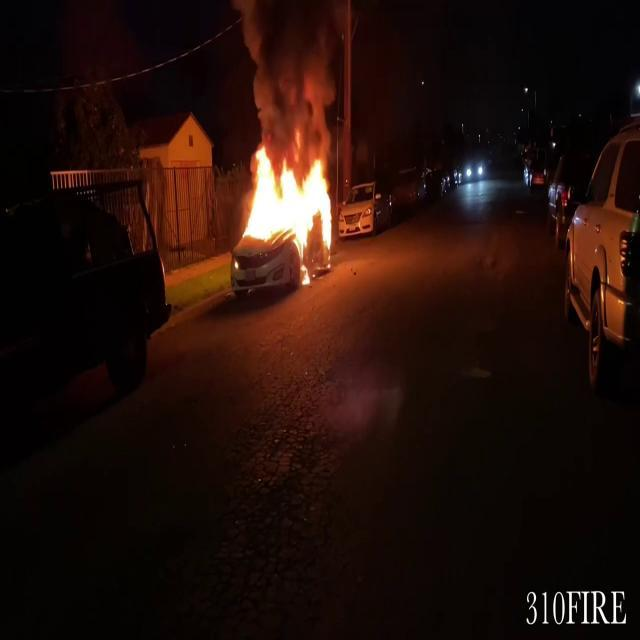Fire: (238, 140, 338, 274)
Smoke: (234, 0, 352, 141)
